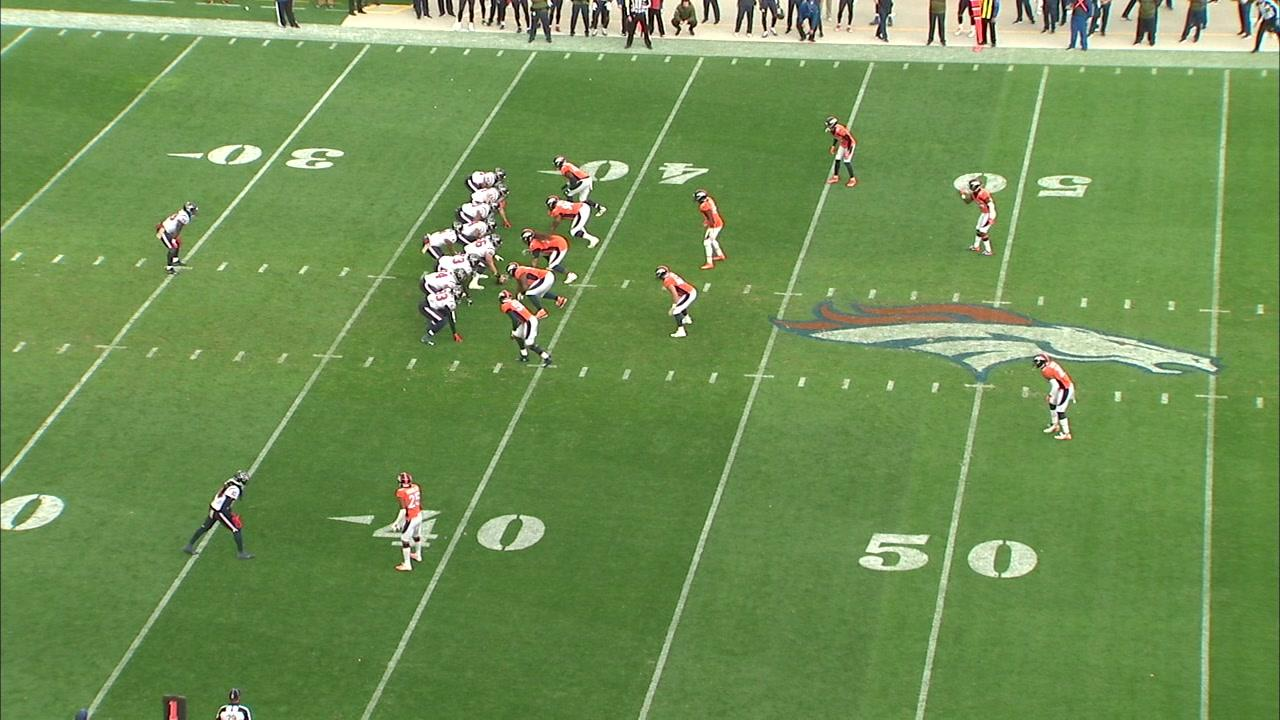defense: (1029, 351, 1081, 443), (497, 287, 554, 370), (389, 467, 429, 576), (956, 176, 1003, 259), (505, 261, 569, 321), (519, 227, 580, 286), (552, 154, 608, 218), (653, 264, 698, 340), (544, 194, 601, 251), (691, 187, 727, 271), (821, 114, 859, 190)
oline: (432, 252, 486, 309), (460, 232, 510, 291), (418, 267, 468, 297), (453, 218, 498, 246), (454, 199, 502, 224)
qb: (419, 219, 465, 273)
ref: (620, 0, 657, 51), (1247, 0, 1279, 57), (211, 686, 255, 720)
skill: (180, 466, 259, 563), (153, 200, 201, 277), (416, 283, 468, 349), (469, 183, 515, 230), (463, 167, 509, 194)
